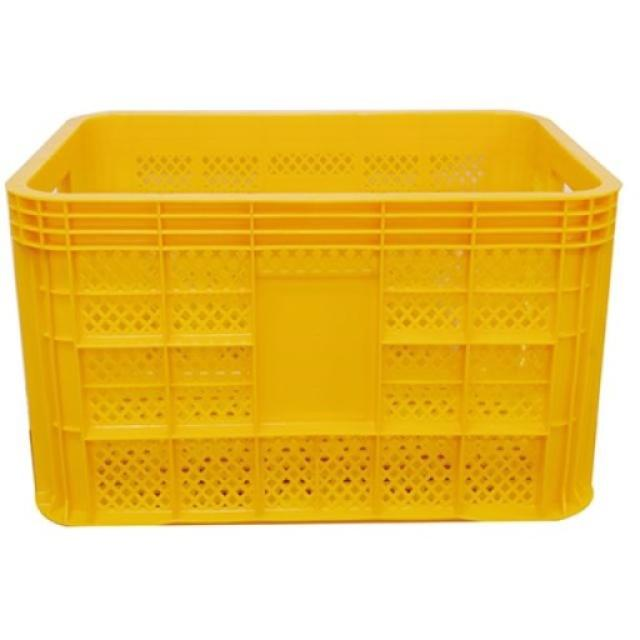basket: (6, 107, 623, 527)
